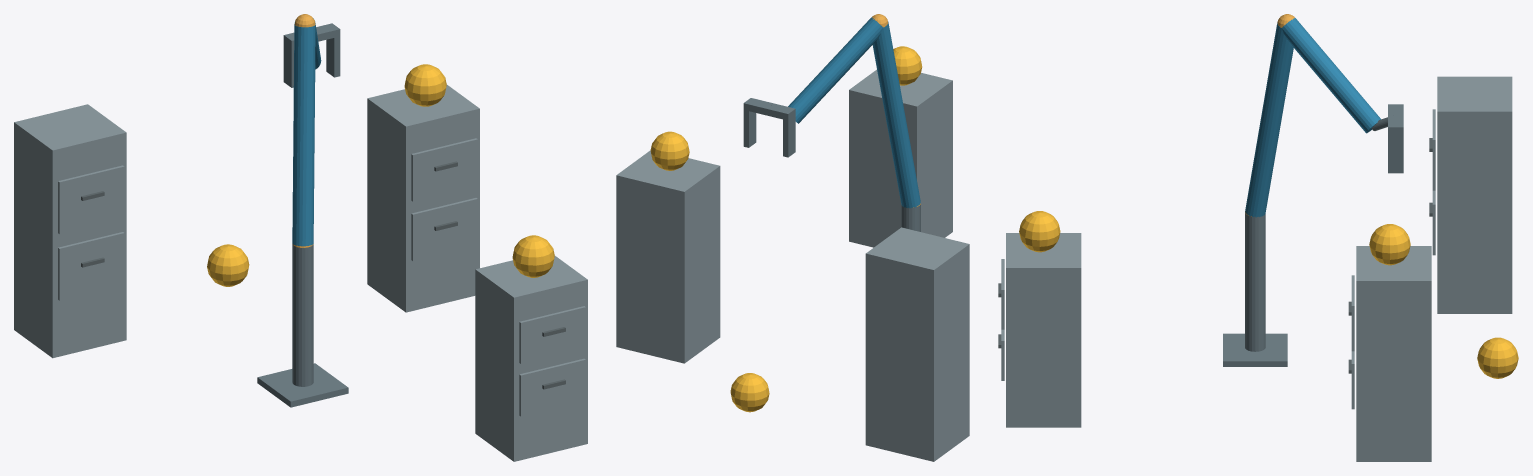
3 views of the same model, side by side, from view 1: azimuth 30°, elevation 25°; view 2: azimuth 150°, elevation 25°; view 3: azimuth 270°, elevation 25° (orthographic). The views are drawn at different scales.
Visible parts, largest first — view 1: cabinet_3 body, cabinet_2 body, cabinet_1 body, moving link 1, cabinet_3 drawer front.001, cabinet_3 drawer front, cabinet_2 drawer front.001, cabinet_2 drawer front, fixed post, cabinet_1 drawer front.001, cabinet_1 drawer front, pedestal (+4 smaller); view 2: cabinet_3 body, cabinet_2 body, cabinet_1 body, moving link 1, moving link 2, ball ball_3, released ball_2, released ball_1, gripper bridge, gripper finger 1, gripper finger -1, fixed post; view 3: cabinet_3 body, cabinet_2 body, cabinet_1 body, moving link 1, fixed post, moving link 2, pedestal, ball ball_3, released ball_2, released ball_1, gripper finger 1.
Part boxes in pixels (left/top/right/bottom): cabinet_3 body: left=14, top=104, right=126, bottom=358; cabinet_2 body: left=367, top=84, right=479, bottom=312; cabinet_1 body: left=475, top=255, right=587, bottom=461; moving link 1: left=292, top=24, right=315, bottom=246; cabinet_3 drawer front.001: left=58, top=165, right=124, bottom=234; cabinet_3 drawer front: left=58, top=232, right=124, bottom=300; cabinet_2 drawer front.001: left=411, top=138, right=477, bottom=201; cabinet_2 drawer front: left=411, top=198, right=477, bottom=260; fixed post: left=292, top=244, right=313, bottom=386; cabinet_1 drawer front.001: left=519, top=306, right=585, bottom=363; cabinet_1 drawer front: left=519, top=358, right=585, bottom=416; pedestal: left=257, top=363, right=348, bottom=407; cabinet_3 body: left=865, top=227, right=969, bottom=461; cabinet_2 body: left=616, top=150, right=720, bottom=363; cabinet_1 body: left=849, top=69, right=952, bottom=247; moving link 1: left=872, top=21, right=920, bottom=208; moving link 2: left=788, top=17, right=882, bottom=123; ball ball_3: left=730, top=373, right=769, bottom=412; released ball_2: left=650, top=131, right=689, bottom=170; released ball_1: left=893, top=46, right=922, bottom=85; gripper bridge: left=743, top=98, right=795, bottom=120; gripper finger 1: left=743, top=110, right=756, bottom=147; gripper finger -1: left=783, top=115, right=795, bottom=157; fixed post: left=901, top=203, right=920, bottom=231; cabinet_3 body: left=1437, top=76, right=1512, bottom=313; cabinet_2 body: left=1356, top=246, right=1431, bottom=461; cabinet_1 body: left=1006, top=233, right=1081, bottom=427; moving link 1: left=1245, top=23, right=1293, bottom=217; fixed post: left=1245, top=213, right=1265, bottom=351; moving link 2: left=1282, top=18, right=1380, bottom=133; pedestal: left=1223, top=333, right=1287, bottom=366; ball ball_3: left=1477, top=337, right=1518, bottom=378; released ball_2: left=1369, top=224, right=1410, bottom=265; released ball_1: left=1019, top=211, right=1060, bottom=252; gripper finger 1: left=1388, top=134, right=1403, bottom=173.
Bounding box in the file's own units: 1.67 × 1.48 × 2.01.
